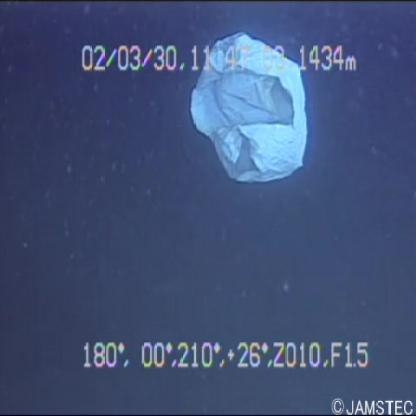Rác: (181, 8, 316, 193)
